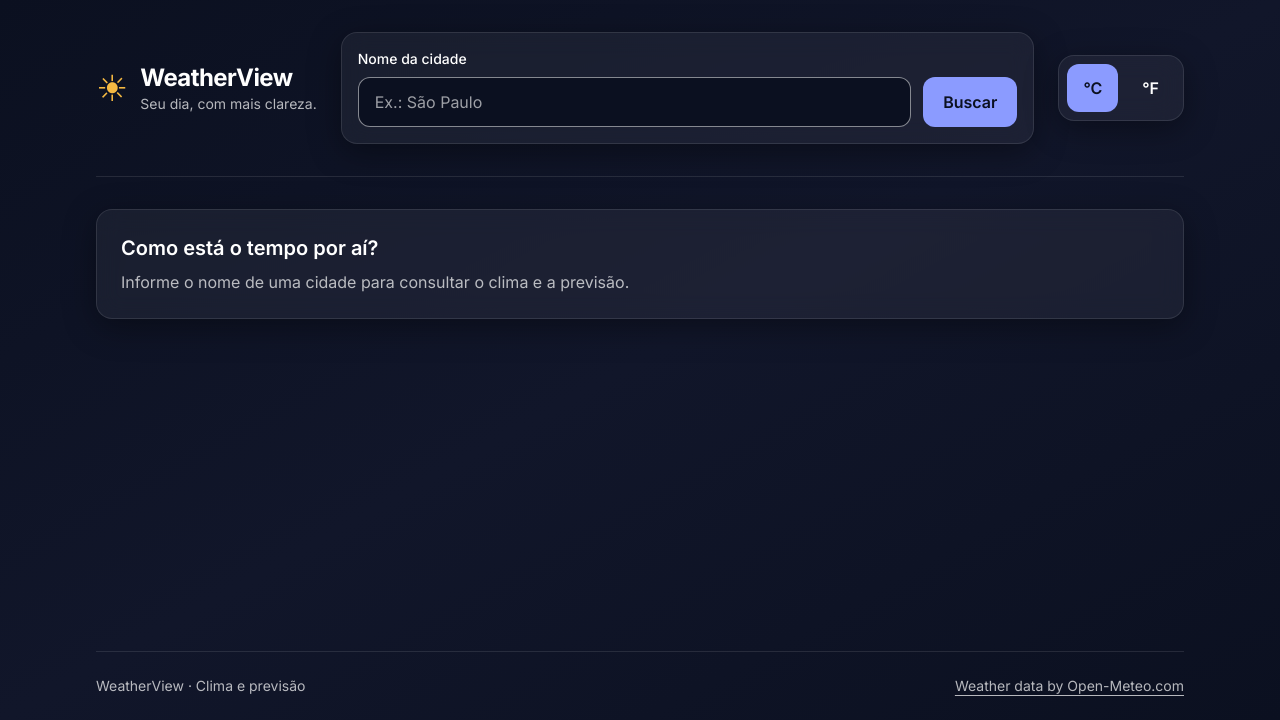
Test case: App integrado ao useWeather › mostra empty sem consultar forecast
The image size is (1280, 720).
Type "Inexistente" into the search field at point(635, 102), box [358,77,911,127]
Then press Enter
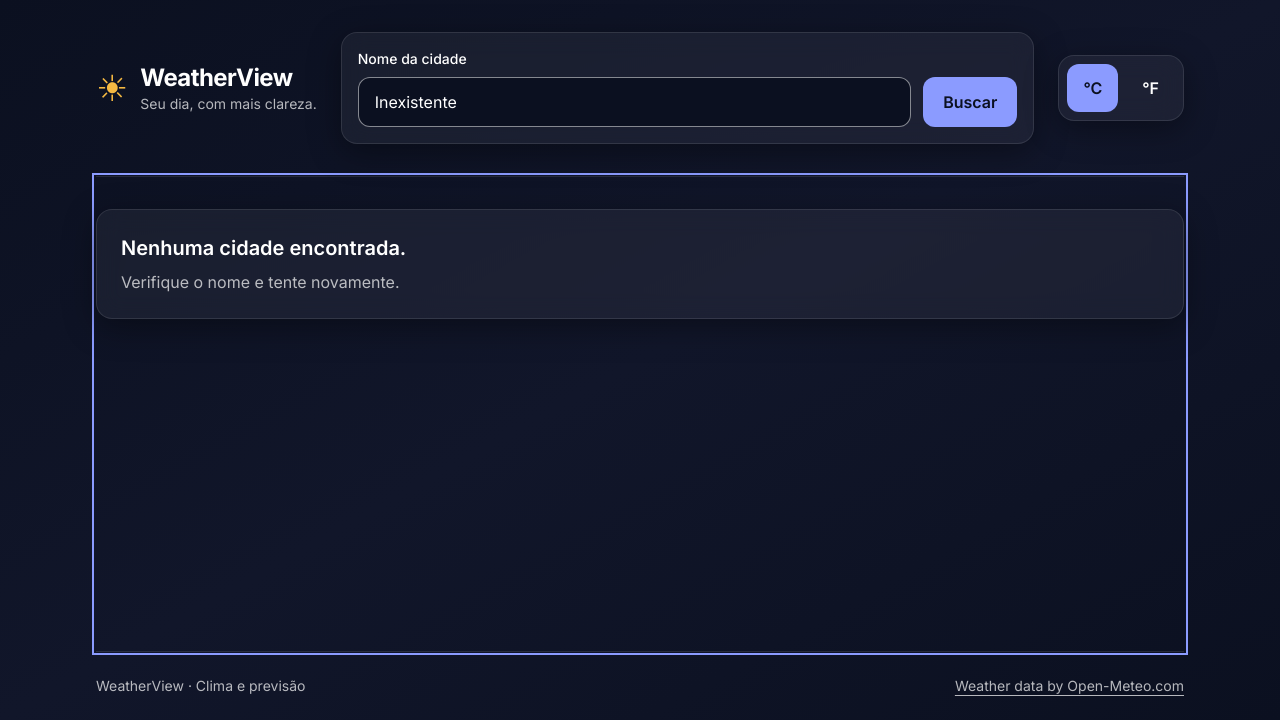
Expected: the heading "Nenhuma cidade encontrada." is shown, [121,236,406,260]
Expected: the text "Verifique o nome e tente novamente." is shown, [121,272,400,292]
